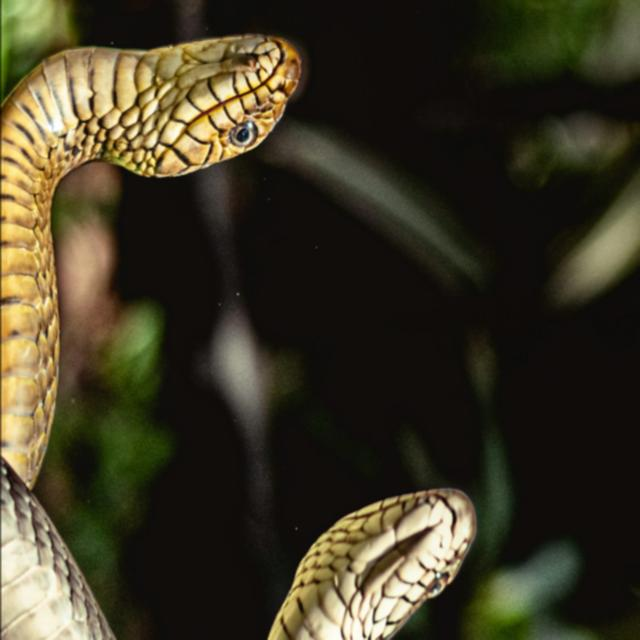Snake: (0, 0, 479, 640)
